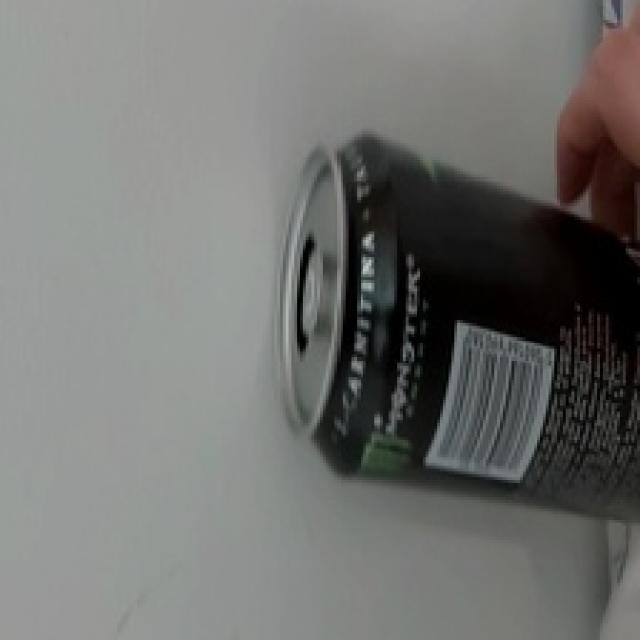recyclable: (275, 132, 640, 522)
